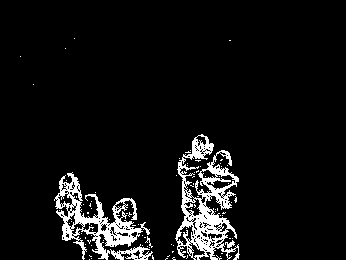person: (178, 194, 241, 260), (200, 148, 241, 237), (104, 195, 152, 260), (53, 168, 89, 252), (182, 132, 214, 226), (77, 193, 110, 260)
